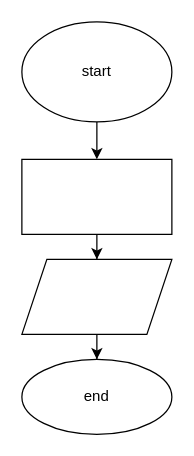
Image size: 194x456. Some labels were removed from this diagram. Here are the shapes that lost their labels. From the top down, the box of each, then its label:
(21, 158, 172, 234): char[10] = Hello
(21, 258, 172, 334): show char
